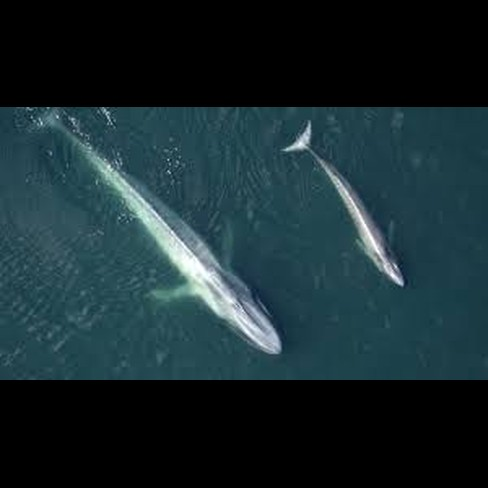bluewhale: (31, 107, 287, 359), (278, 116, 413, 294)
